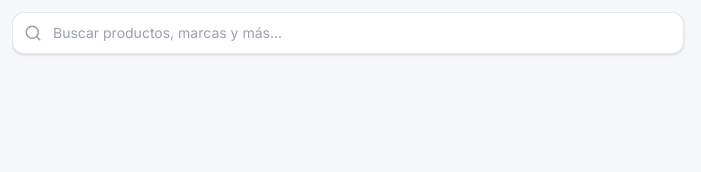
it: SearchBar Component › debe navegar a /categorias?search=... al enviar el formulario con texto
The width and height of the screenshot is (701, 172).
Type "teclado mecanico" into the search field at (348, 33), box [12, 12, 684, 54]
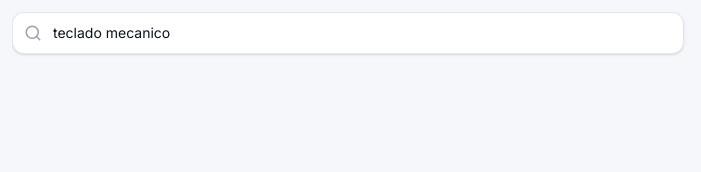
Submit the form, box [12, 12, 684, 54]
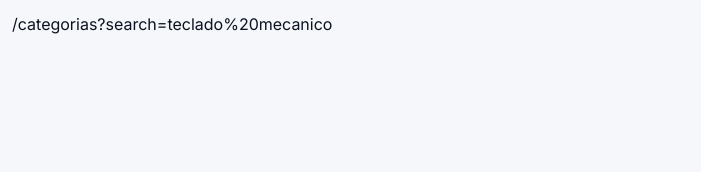
Check: the text with test id "location-display" reads "/categorias?search=teclado%20mecanico", box [12, 14, 332, 34]
